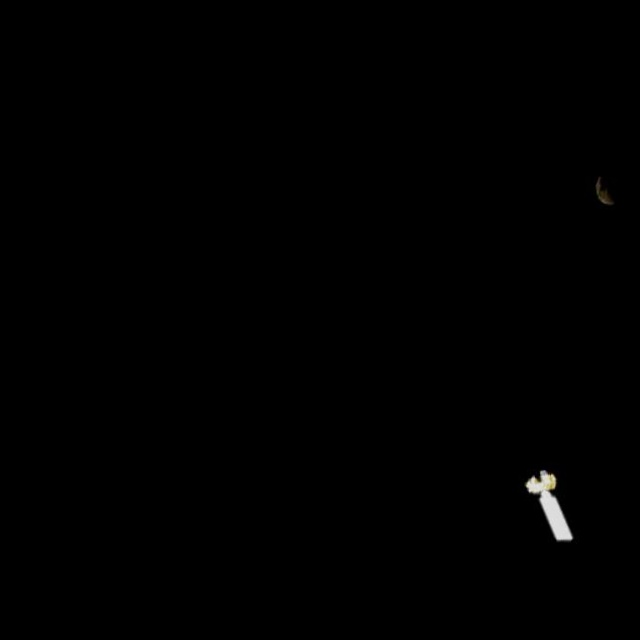satellite: (513, 456, 586, 550)
